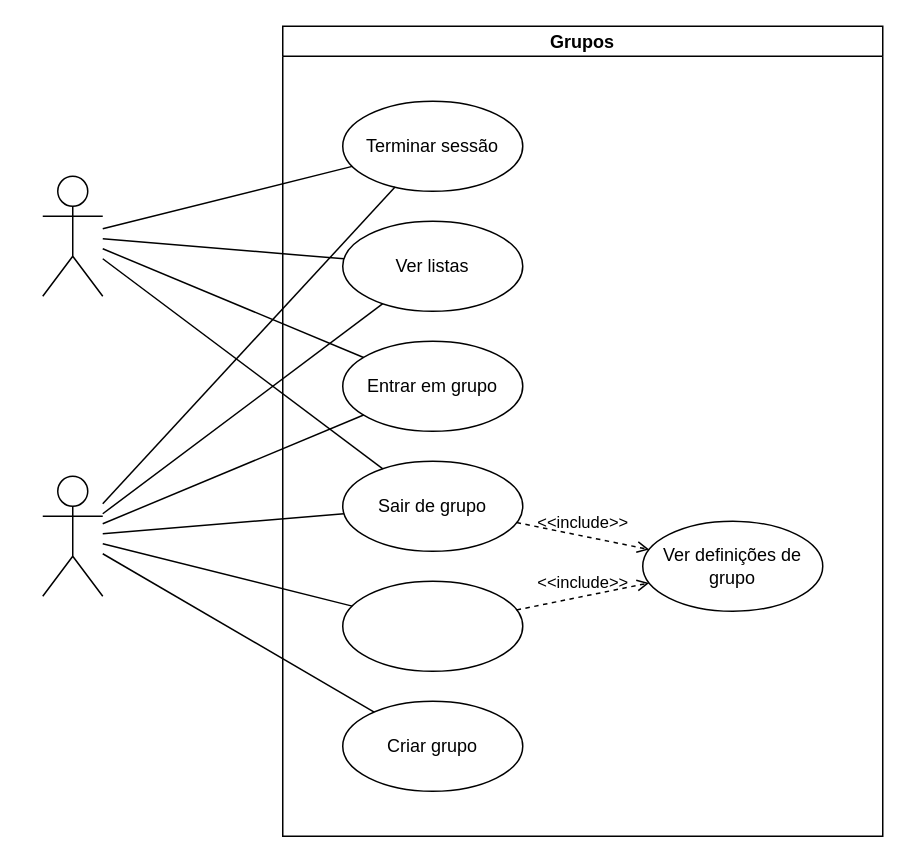
This 909x863 diagram has some shape labels left out. The box of each missing label's shape, as (x1, y1, x2, y2) in pixels:
Convidado: (41, 175, 103, 296)
Editar grupo: (341, 580, 523, 671)
Utilizador autenticado: (41, 475, 103, 596)
